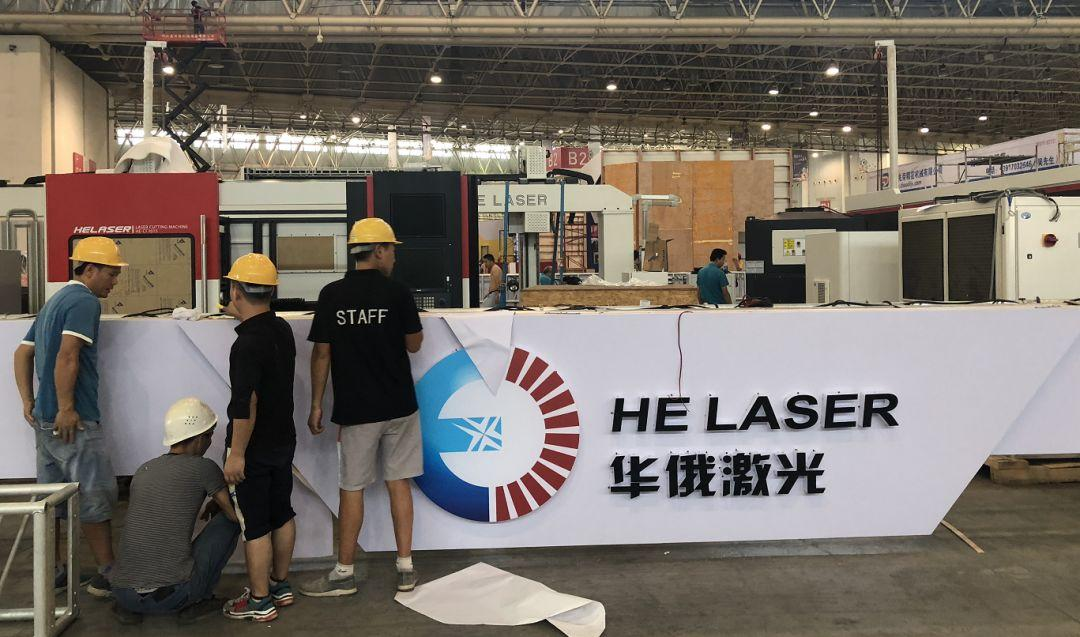helmet: (163, 397, 220, 448), (223, 253, 282, 287), (70, 236, 131, 268), (347, 219, 404, 247)
